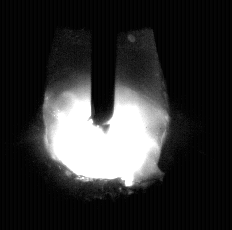arame: (92, 0, 116, 134)
poca: (42, 0, 167, 230)
